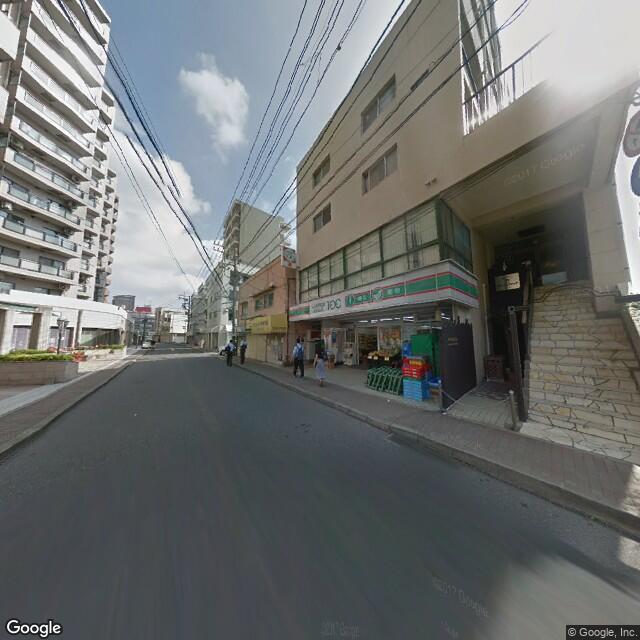lawson: (289, 262, 481, 322)
